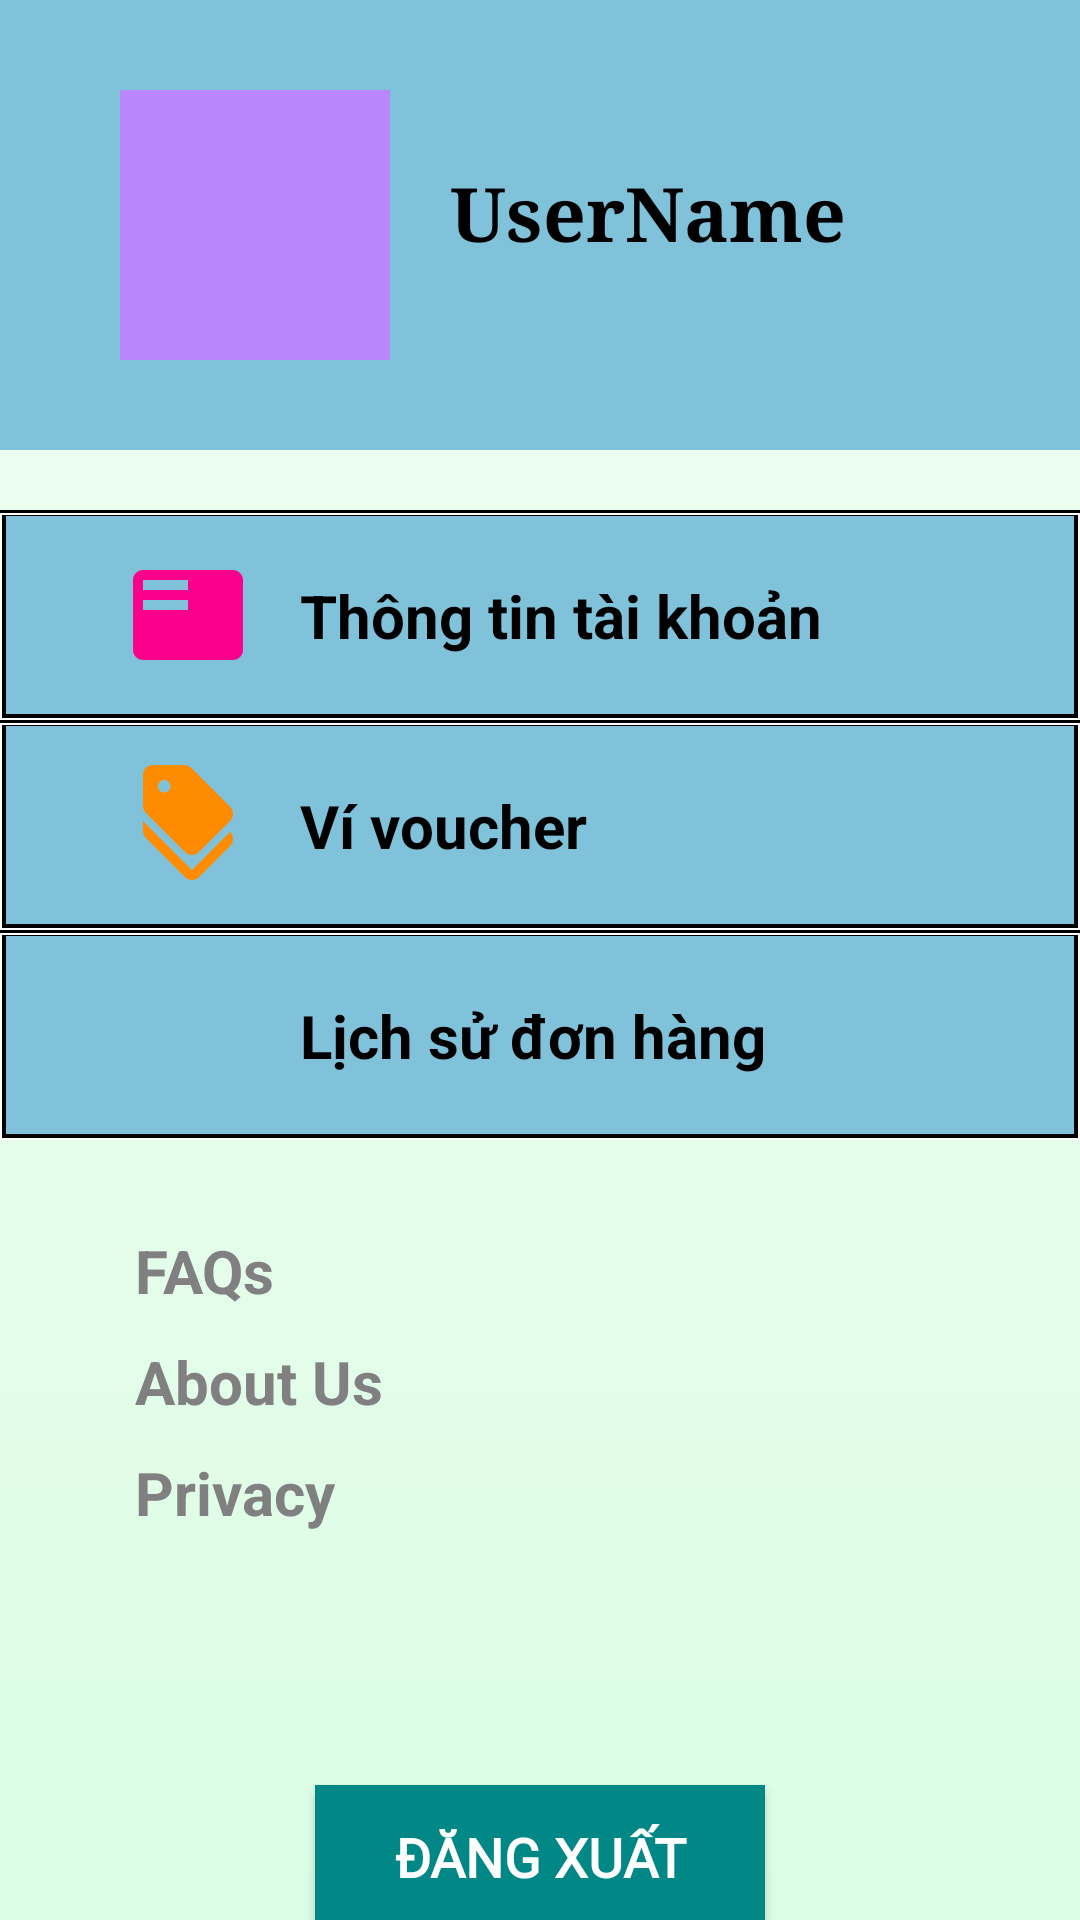

Where to tap for icons on this 1080w x 1920h app screen, as (x,y):
discount: (188,822)
featured play list: (188,615)
